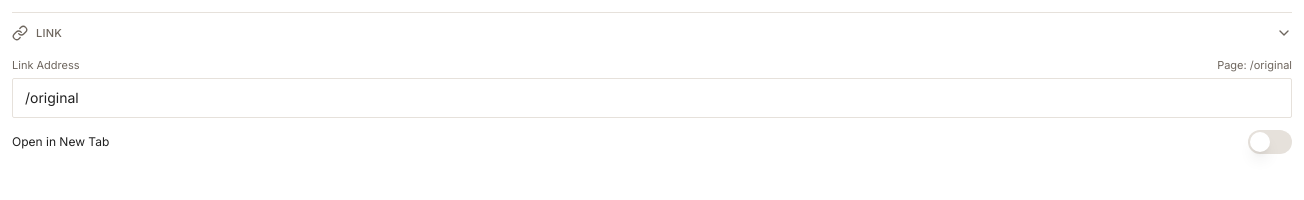
rejects invalid addresses without saving and applies on blur
Later steps or results of the test are not shown.
Replace the text in the field labelled "Link Address" with "javascript:bad()": (652, 98) [12, 78, 1292, 118]
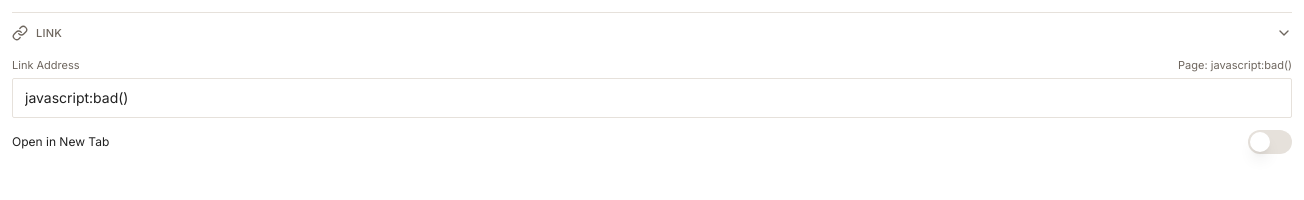
Leave the field labelled "Link Address", box [12, 78, 1292, 118]
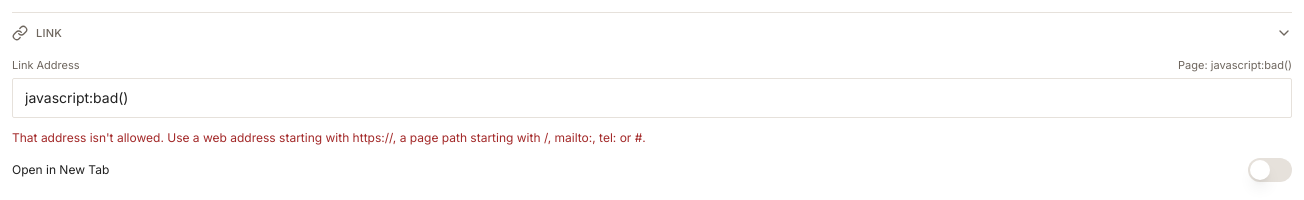
Now the message is shown, box [12, 130, 646, 144]
